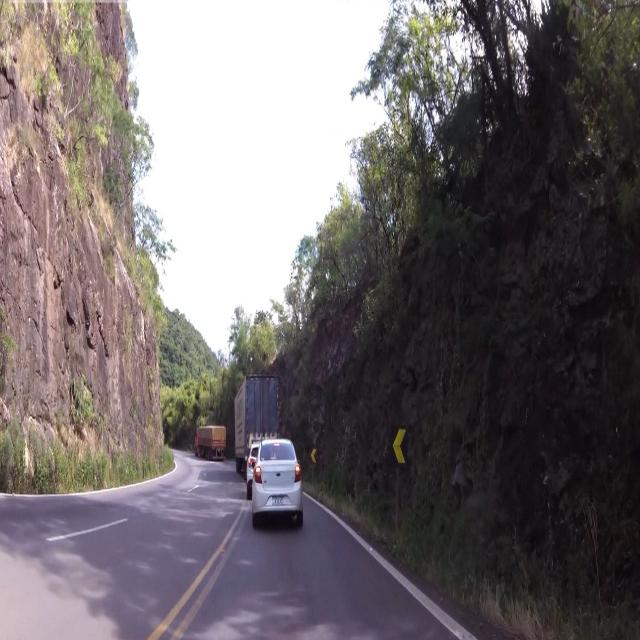Del: (392, 430, 412, 474), (310, 442, 320, 466)
